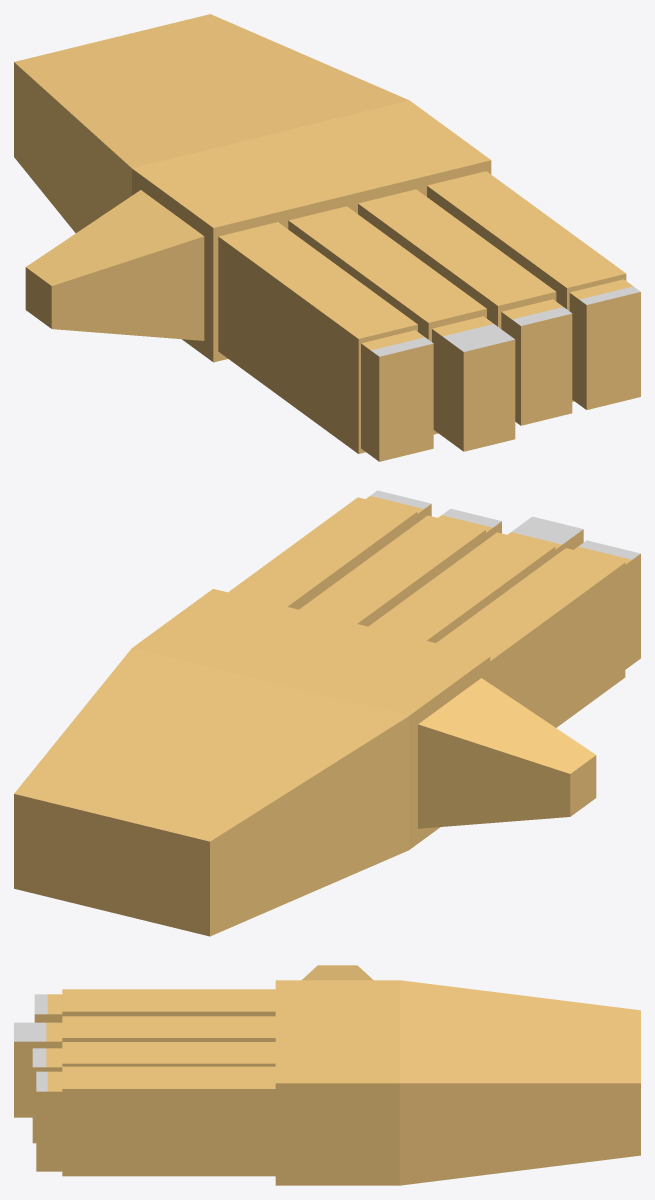
The model's file is Hand.fbx.
The picture shows the model from 3 angles, top to bottom: view 1: azimuth 30°, elevation 25°; view 2: azimuth 150°, elevation 25°; view 3: azimuth 270°, elevation 25°; orthographic projection. The views are drawn at different scales.
Visible parts, largest first — view 1: Cube; view 2: Cube; view 3: Cube.
Boxes of the visible parts, bbox=[...] form: Cube: bbox=[14, 14, 640, 461]; Cube: bbox=[14, 490, 640, 936]; Cube: bbox=[14, 965, 640, 1185].
Size of the model in its own units: 1.62 by 0.5056 by 2.81.
